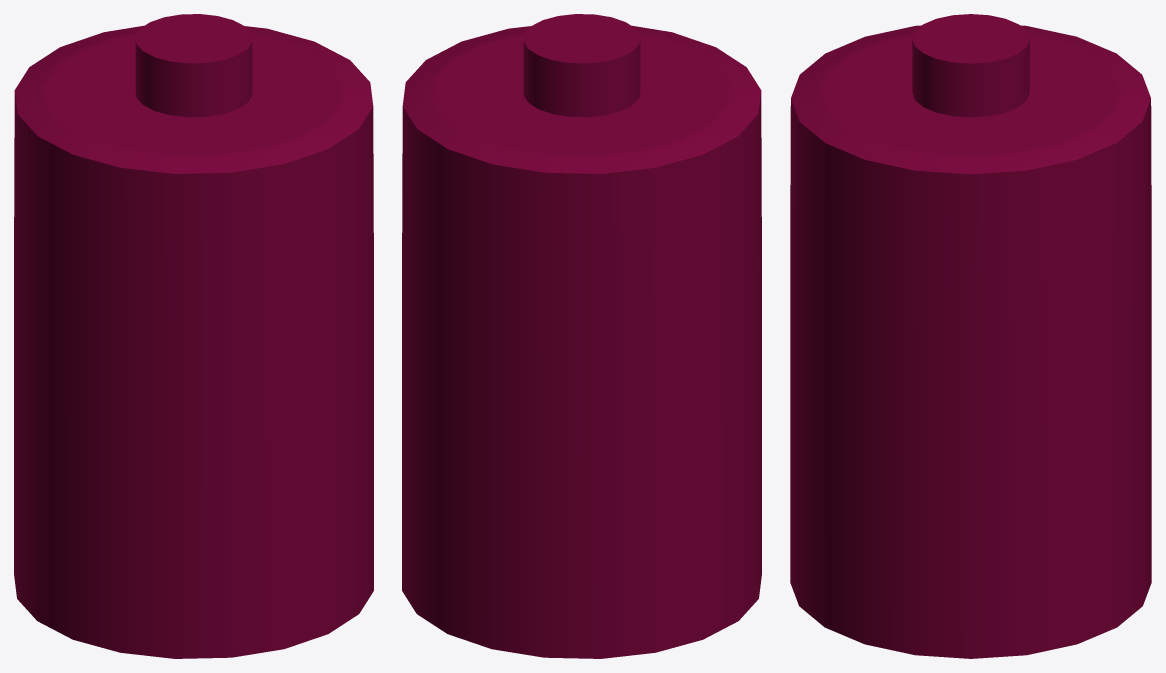
File: SM_Battery.fbx
3 renders of one model, left to right at view 1: azimuth 30°, elevation 25°; view 2: azimuth 150°, elevation 25°; view 3: azimuth 270°, elevation 25°, orthographic.
Visible parts, largest first — view 1: pCylinder3; view 2: pCylinder3; view 3: pCylinder3.
Part boxes in pixels (left/top/right/bottom): pCylinder3: left=14, top=14, right=373, bottom=658; pCylinder3: left=402, top=14, right=761, bottom=658; pCylinder3: left=790, top=14, right=1151, bottom=658.
Bounding box in the file's own units: 0.6626 × 1.1 × 0.6626.
